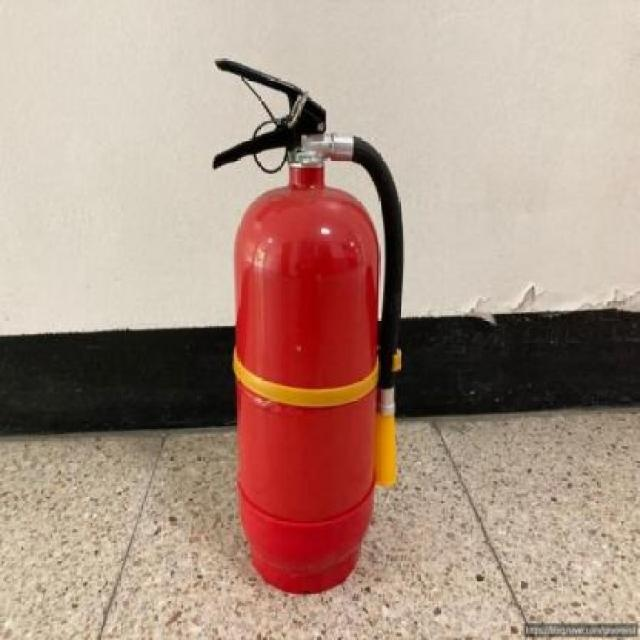fire extinguisher: (211, 57, 404, 595)
